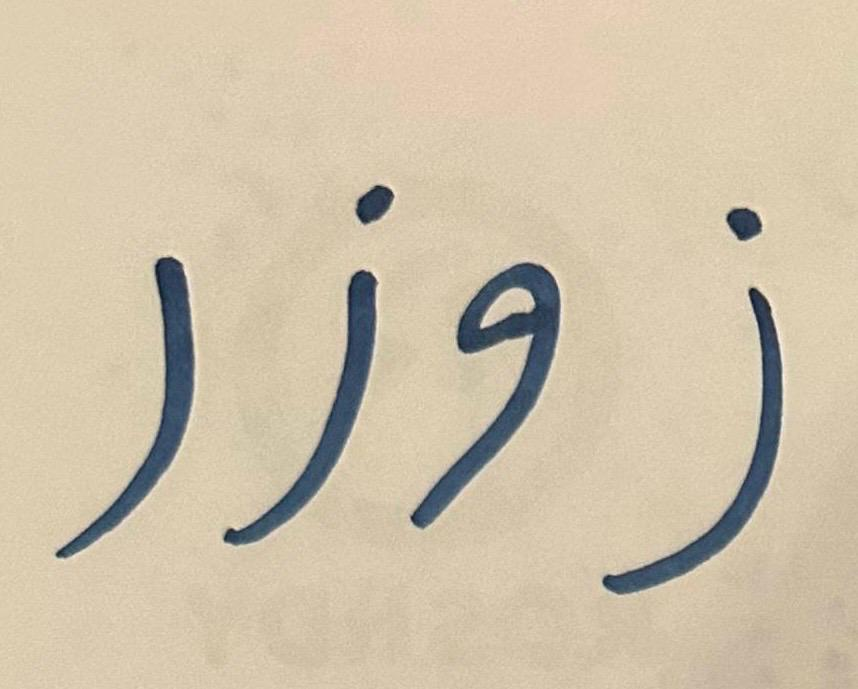hamza: (591, 195, 833, 635), (211, 145, 402, 564)
sad: (27, 106, 207, 610)
yeh: (408, 171, 585, 558)
